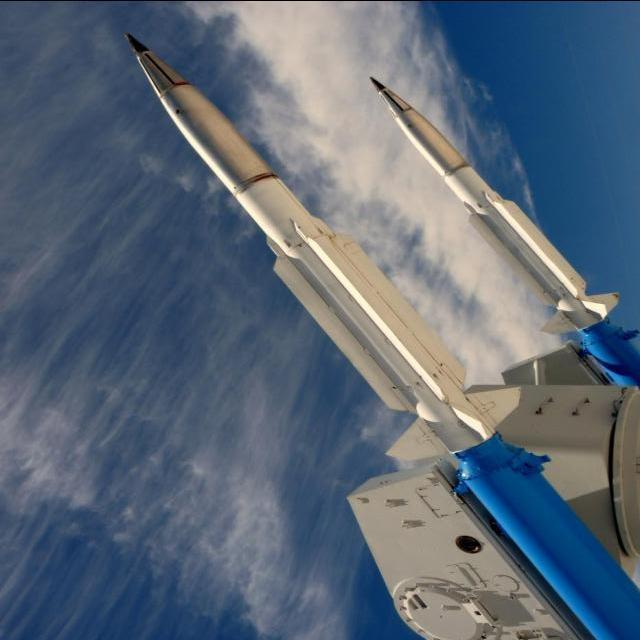Missile: (76, 0, 511, 475), (331, 40, 638, 355)
